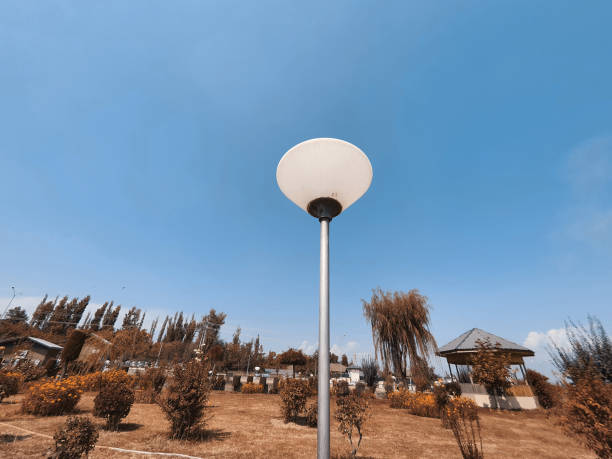light_pole: (312, 224, 336, 459)
